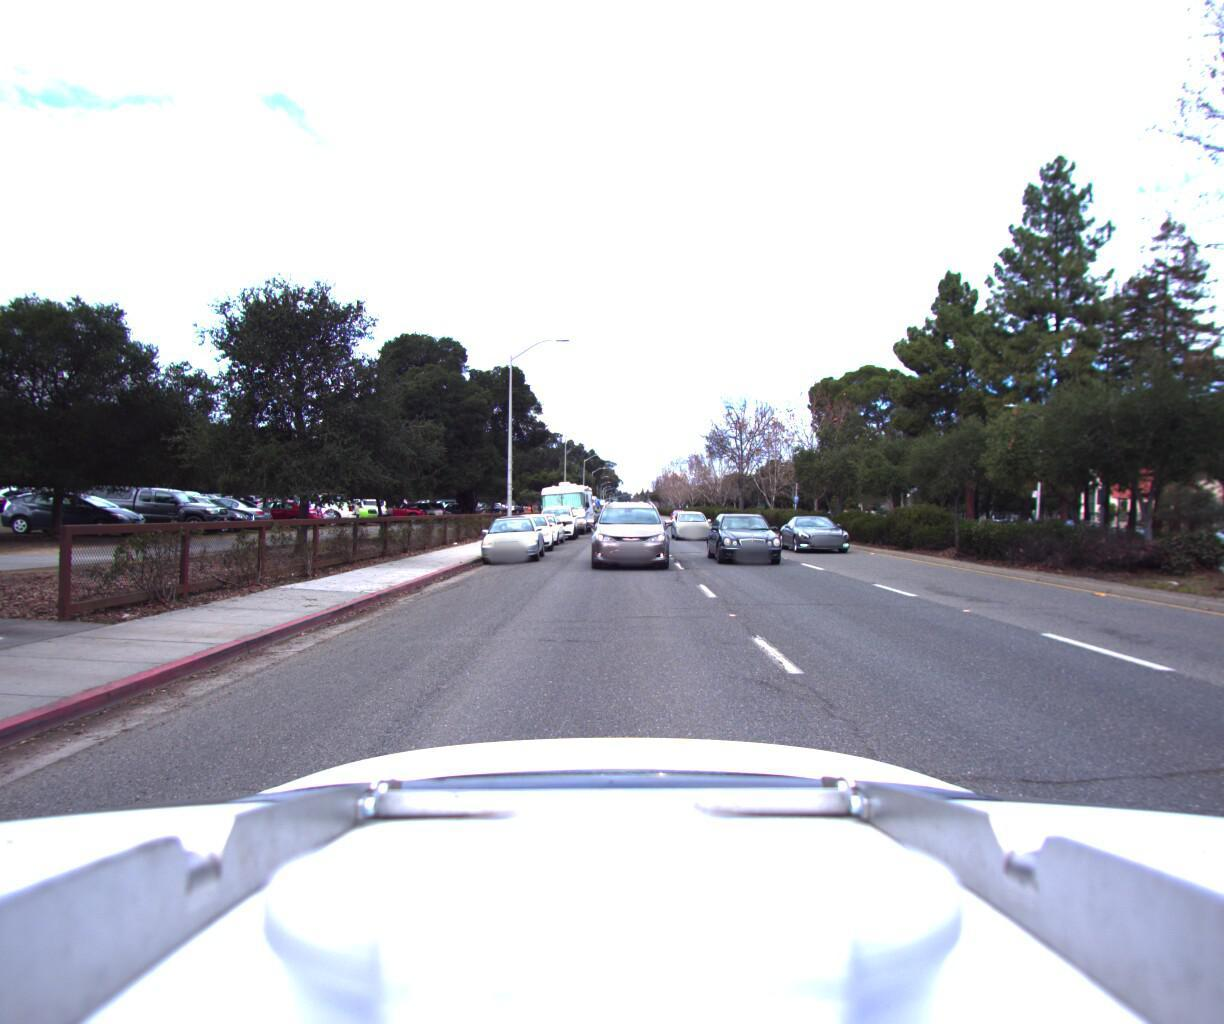car: (593, 496, 670, 575), (706, 507, 800, 568), (785, 507, 869, 555), (477, 510, 544, 563), (501, 508, 554, 550), (513, 509, 565, 544), (1190, 511, 1224, 564), (534, 499, 577, 538), (362, 495, 426, 520), (671, 508, 716, 542), (385, 497, 444, 520), (425, 497, 479, 518)
other_vehicle: (531, 474, 592, 534)
